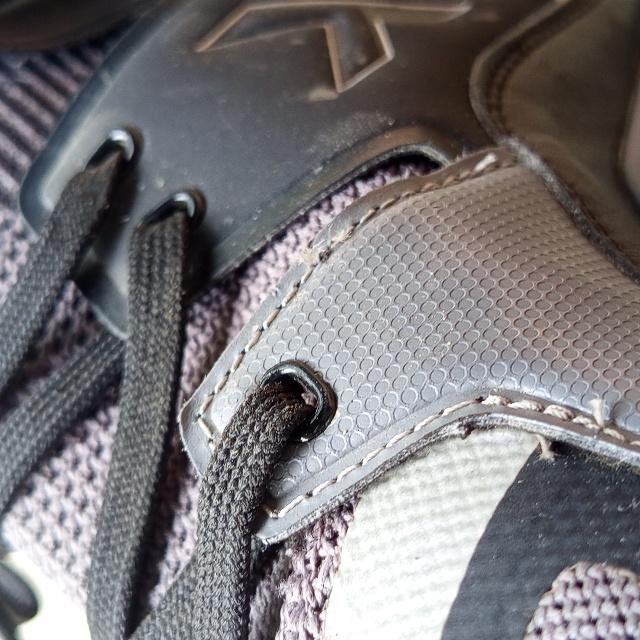broken: (285, 220, 388, 269)
